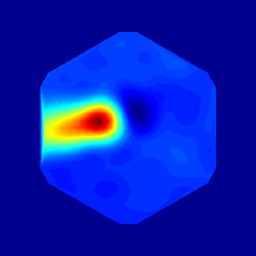ship: (112, 94, 155, 131)
wave: (77, 105, 126, 134)
